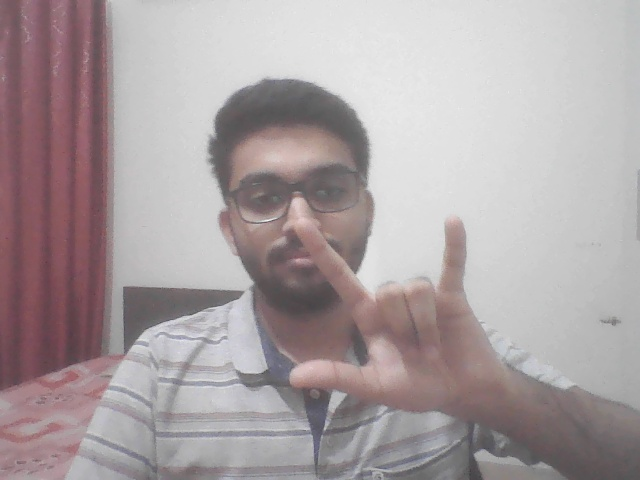iloveyou: (266, 208, 515, 426)
